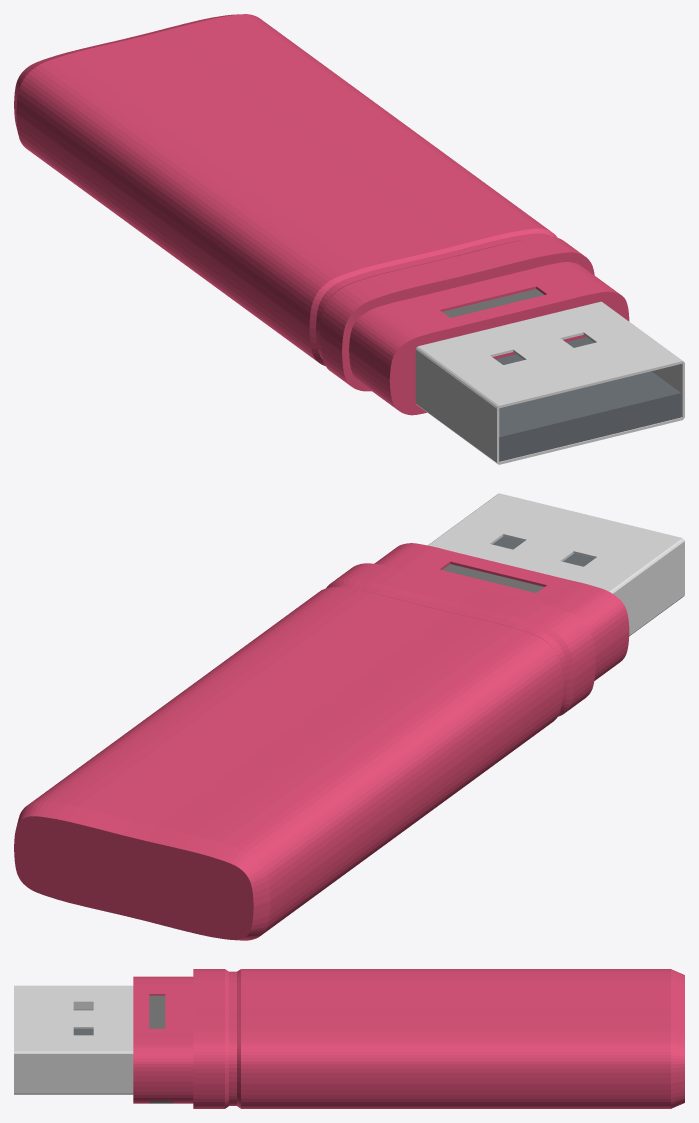
3 renders of one model, top to bottom at view 1: azimuth 30°, elevation 25°; view 2: azimuth 150°, elevation 25°; view 3: azimuth 270°, elevation 25°, orthographic. The views are drawn at different scales.
Visible parts, largest first — view 1: group_Plastic_1, group_Silver_1, group_Plastic; view 2: group_Plastic_1, group_Silver_1; view 3: group_Plastic_1, group_Silver_1.
Part boxes in pixels (<box>): group_Plastic_1: <box>14,14,629,415</box>; group_Silver_1: <box>415,301,683,464</box>; group_Plastic: <box>496,337,681,461</box>; group_Plastic_1: <box>14,543,629,940</box>; group_Silver_1: <box>428,493,684,635</box>; group_Plastic_1: <box>133,969,684,1108</box>; group_Silver_1: <box>14,985,133,1094</box>.
Bounding box in the file's own units: 122 × 43.98 × 380.
